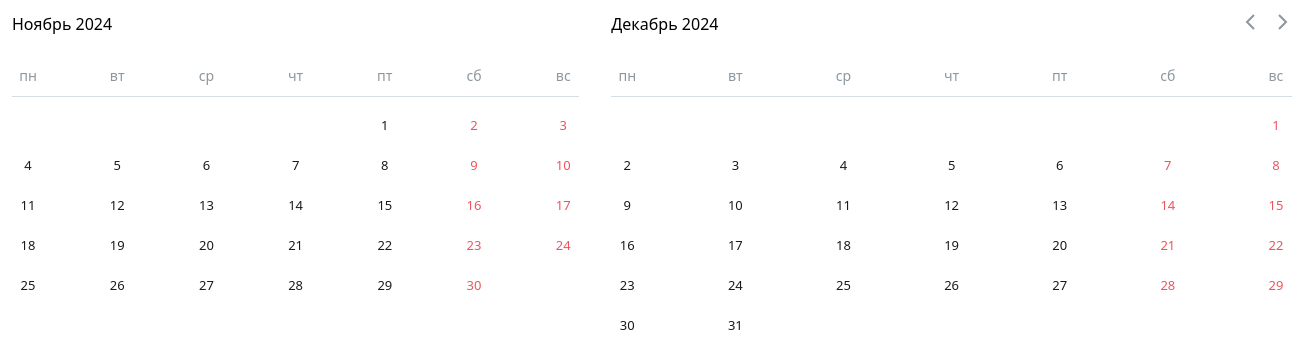
Test case: Компонент CalendarMonthRange › При клике на левую стрелку, каждый месяц смещается назад (Ноябрь-Декабрь -> Октябрь-Ноябрь)
This screenshot has width=1304, height=347.
Click the 1st button.
click(1250, 22)  # box [1240,12,1260,32]
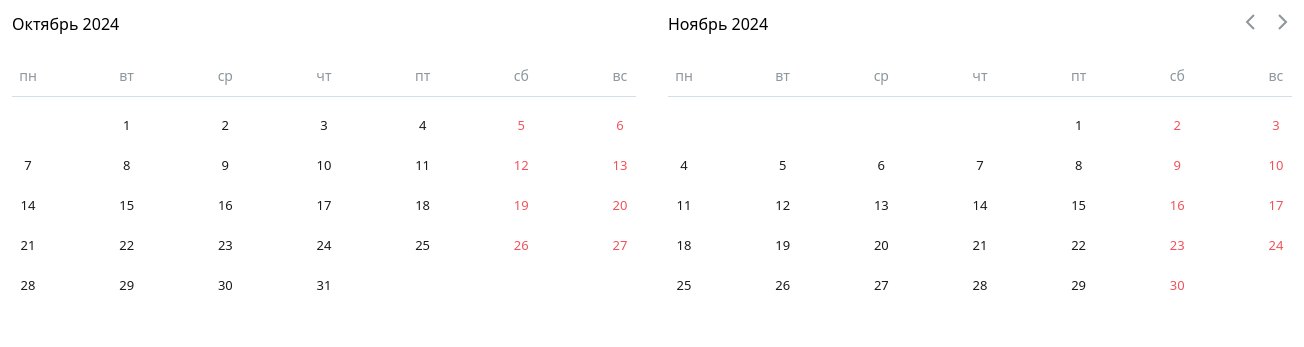
Check: the text "Ноябрь 2024" is shown, box [668,13,768,35]
Check: the text "Октябрь 2024" is shown, box [12,13,119,35]
